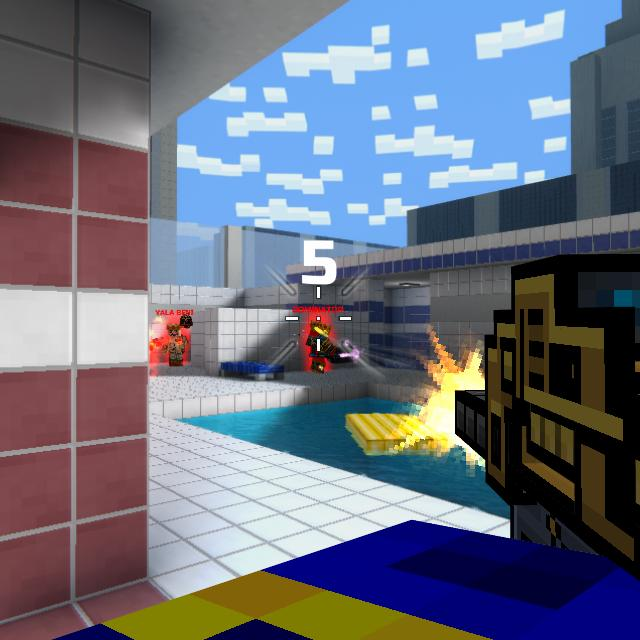Enemy: (305, 320, 331, 374), (166, 322, 187, 366)
